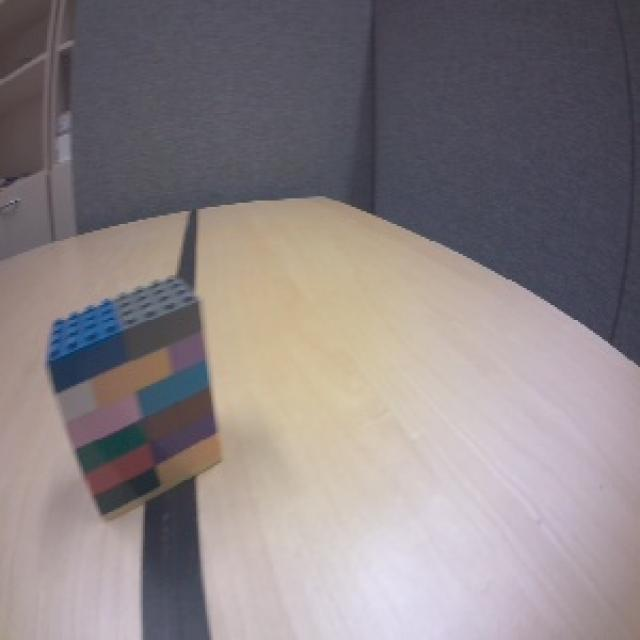obstacle: (42, 270, 226, 527)
